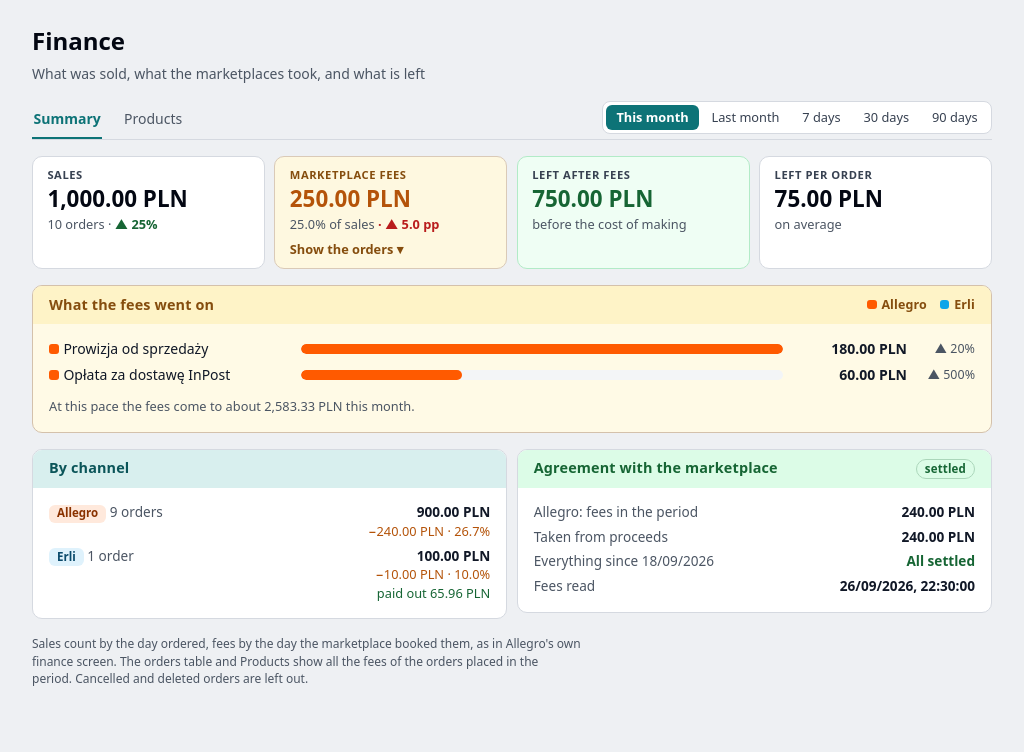
the orders under the fees figure › open from the fees figure, each with its fees and what is left
The width and height of the screenshot is (1024, 752).
Expected: the element "Orders and their fees" is not shown
What coordinates should you click on to do the following:
click the button "Marketplace fees"
I would click on:
 (391, 212)
Its box is [274,156,507,269].
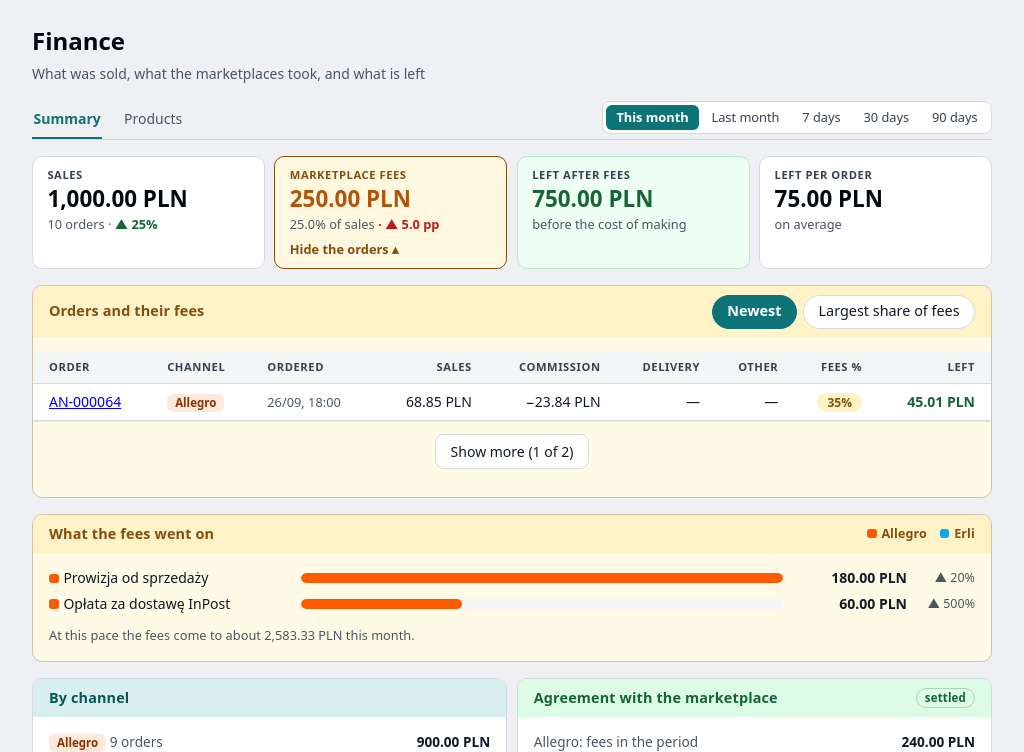
Expected: the button "Marketplace fees" is expanded, [274,156,507,269]
Expected: the row "AN-000064" shows "−23.84 PLN", [526,392,601,411]
Expected: the row "AN-000064" shows "35%", [33,383,991,421]
